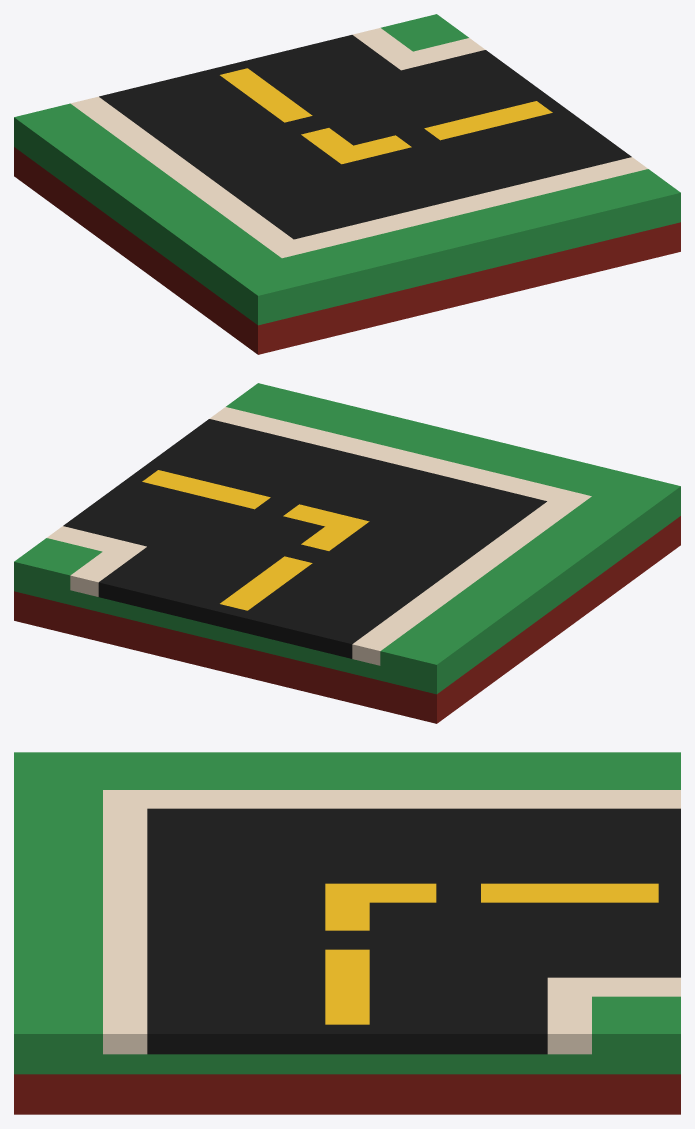
File: RaodP5.obj
3 renders of one model, top to bottom at view 1: azimuth 30°, elevation 25°; view 2: azimuth 150°, elevation 25°; view 3: azimuth 270°, elevation 25°, orthographic. The views are drawn at different scales.
Bounding box in the file's own units: 3 × 0.4 × 3.
1 material, 1 textured.
